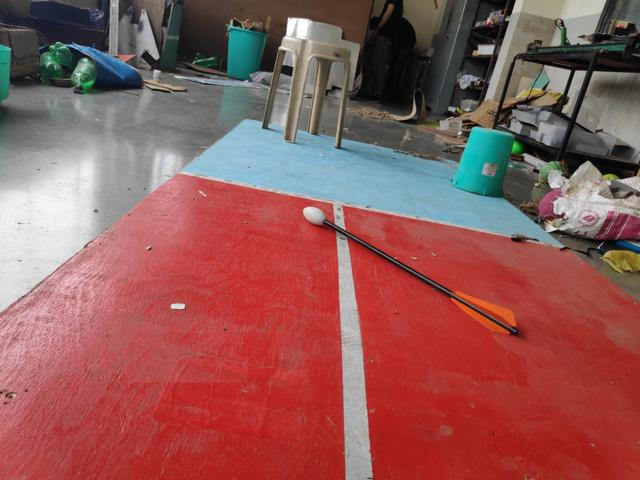Head: (300, 201, 329, 229)
Tail: (446, 290, 524, 338)
